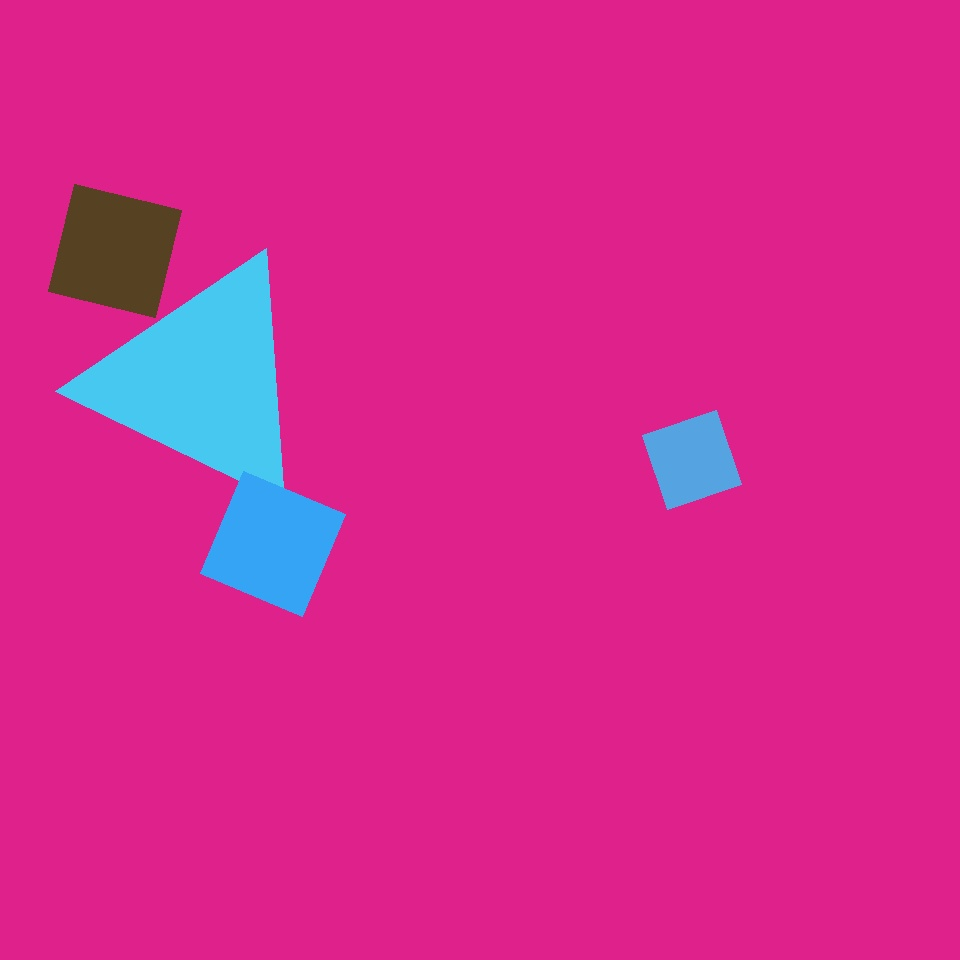circle: (302, 409, 608, 685), (88, 254, 316, 508)
square: (468, 619, 715, 867), (200, 472, 346, 616), (48, 184, 182, 318), (642, 410, 742, 510)
triangle: (204, 410, 498, 704), (249, 89, 473, 314), (569, 266, 771, 468)
